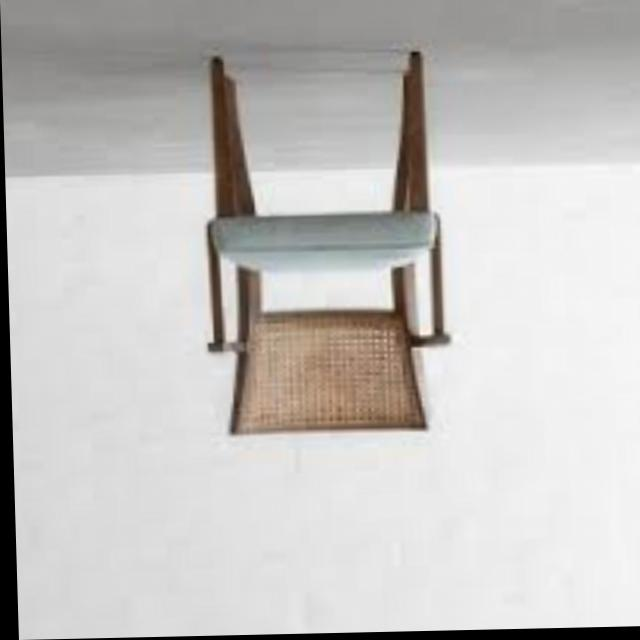Chair: (195, 49, 454, 439)
